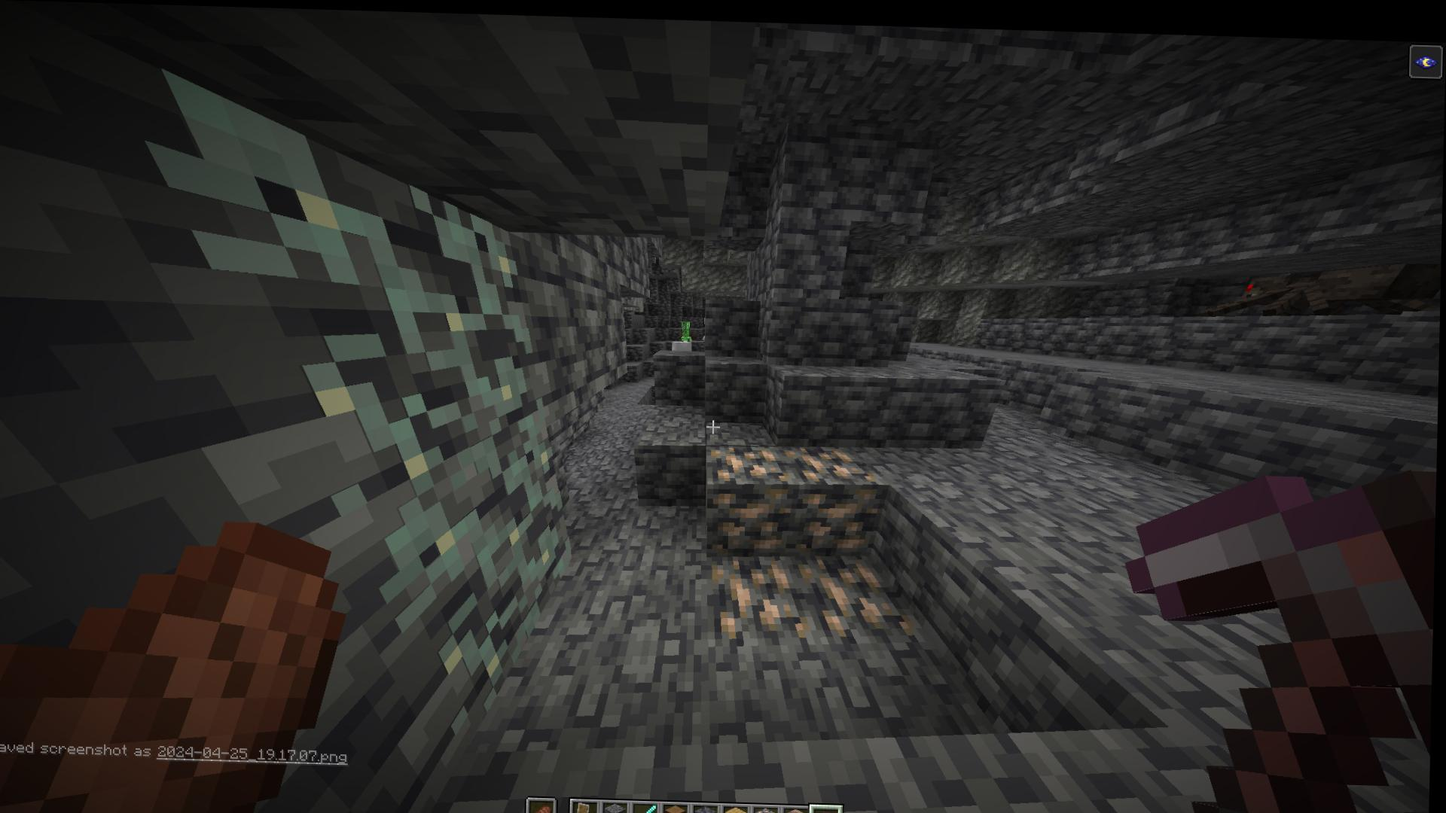iron ore: (804, 546, 917, 640), (706, 547, 811, 642), (792, 480, 885, 555), (708, 479, 800, 552), (785, 429, 882, 487), (707, 437, 791, 489)
